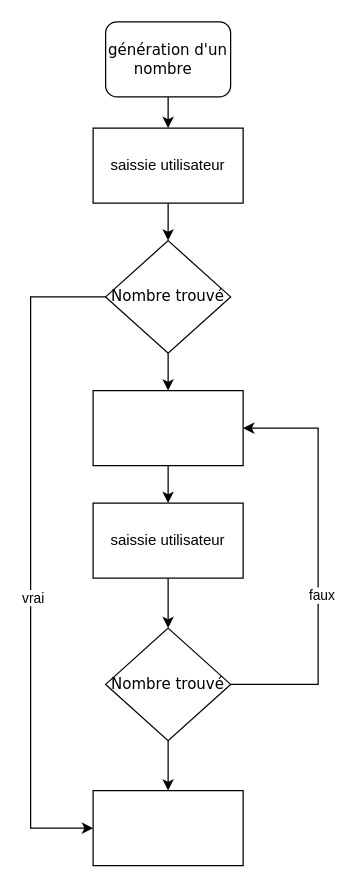
Image size: 356x888. Some labels were removed from this diagram. The centre of each missing label's shape, as x and y in pixels:
"Fin" goes at (x=167, y=827).
"ordinateur affiche la fourchette" goes at (x=167, y=427).
